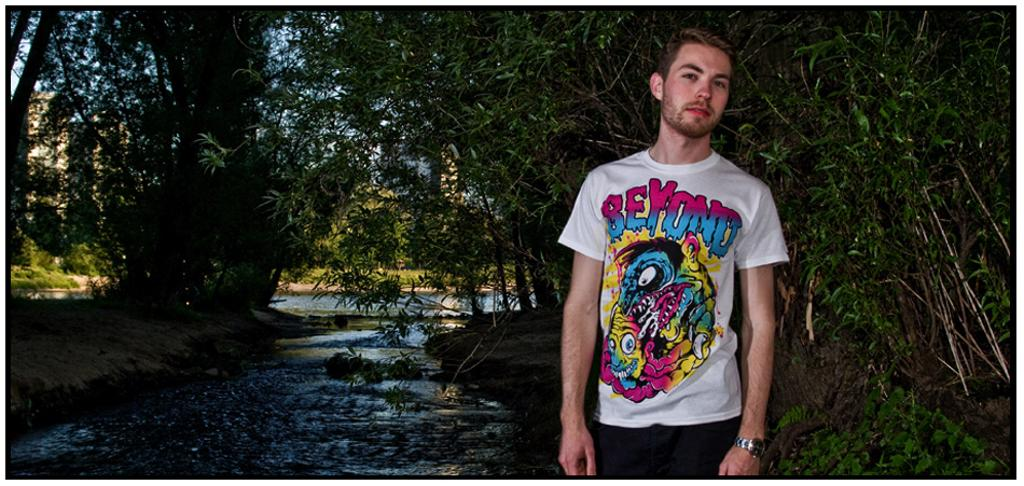face: (666, 44, 728, 144)
